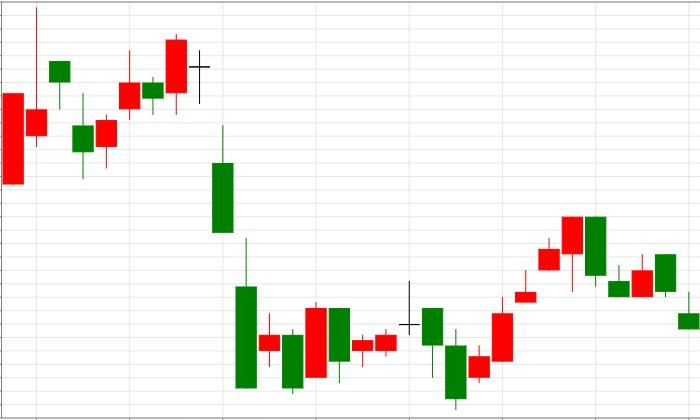hanging_man_fall: (468, 216, 584, 383)
